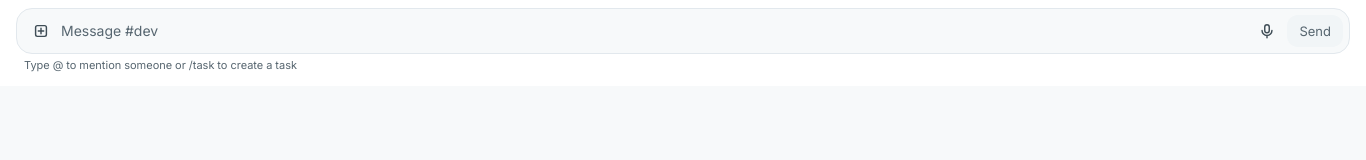
Test: Composer tasks › shows task mode and changes the hint while typing /task
The image size is (1366, 160).
Expected: the text "Type @ to mention someone or /task to create a task" is shown, [24,58,297,72]
Type "/task Review the patch" into the text box labelled "Message".
click(654, 31); type("/task Review the patch")  # box [61,15,1247,47]
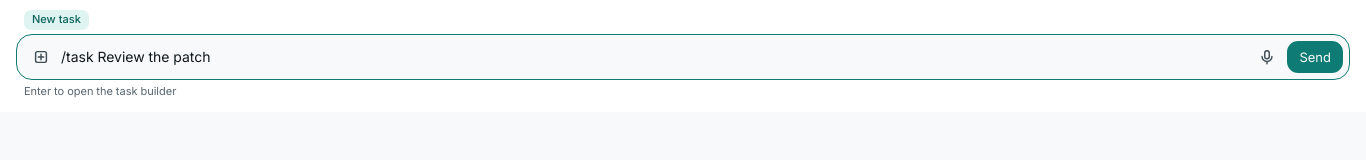
Expected: the text "New task" is shown, [24,10,89,30]
Expected: the text "Enter to open the task builder" is shown, [24,84,176,98]
